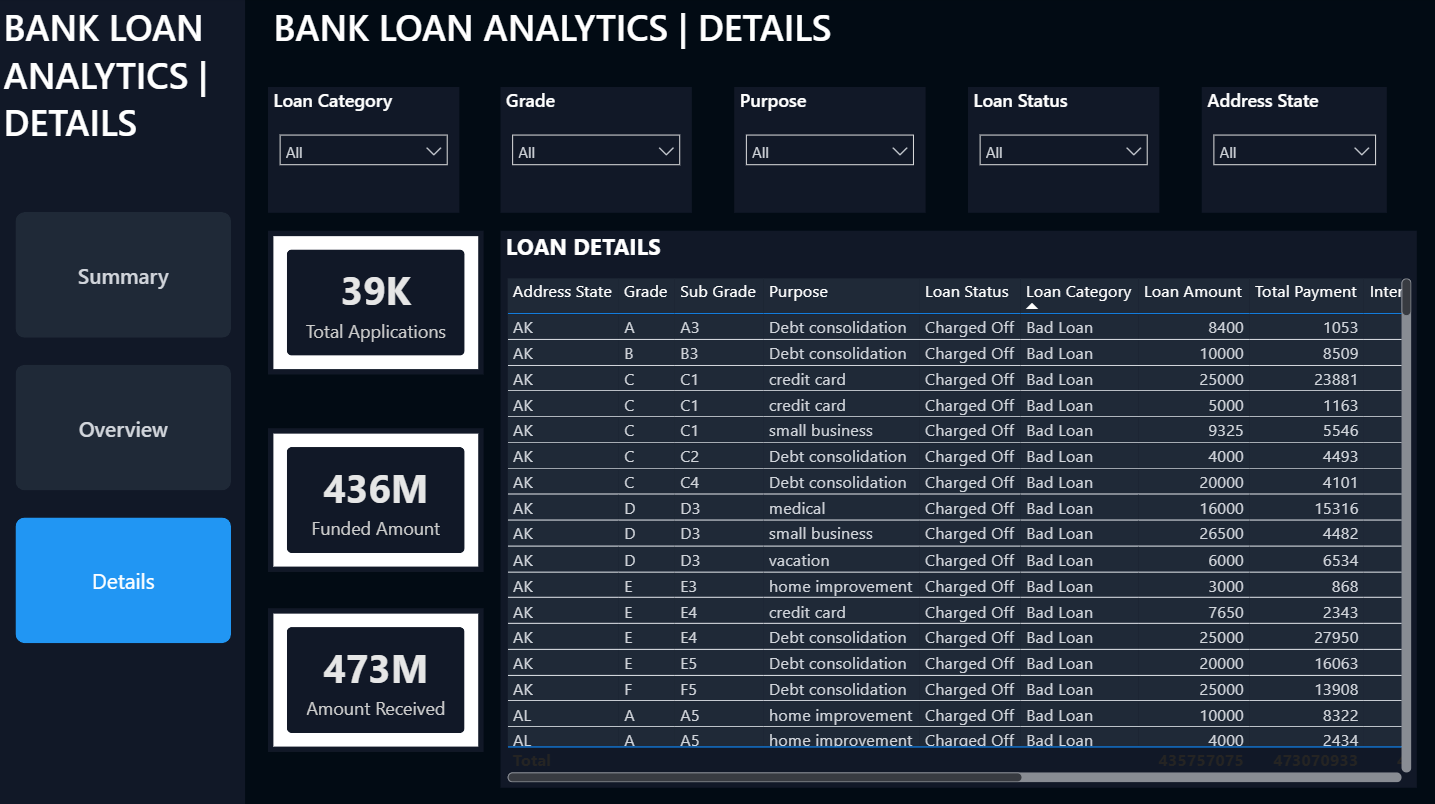

Layout of this report page (visuals, bound fields, positions):
{"tool":"powerbi","page":{"name":"Details","canvas":[1280,720],"ordinal":2},"visuals":[{"type":"shape","box":[0,0,220,720],"z":0},{"type":"textbox","box":[240,0,864,80],"z":1000},{"type":"slicer","title":"Address State","fields":{"Values":["financial_loan.address_state"]},"box":[1072,80,165,112],"z":2000},{"type":"slicer","title":"Grade","fields":{"Values":["financial_loan.grade"]},"box":[448,80,170,112],"z":3000},{"type":"slicer","title":"Purpose","fields":{"Values":["financial_loan.purpose"]},"box":[656,80,170,112],"z":4000},{"type":"slicer","title":"Loan Status","fields":{"Values":["financial_loan.loan_status"]},"box":[864,80,170,112],"z":5000},{"type":"tableEx","title":"LOAN DETAILS","fields":{"Values":["financial_loan.address_state","financial_loan.grade","financial_loan.sub_grade","financial_loan.purpose","financial_loan.loan_status","financial_loan.Loan_Category","Sum(financial_loan.loan_amount)","Sum(financial_loan.total_payment)","Sum(financial_loan.int_rate)","Sum(financial_loan.installment)","Sum(financial_loan.annual_income)","Sum(financial_loan.dti)"]},"box":[448,208,816,496],"z":6000},{"type":"cardVisual","fields":{"Data":["_Measures.Total Applications"]},"box":[240,208,192,128],"z":7000},{"type":"cardVisual","fields":{"Data":["_Measures.Total Funded Amount"]},"box":[240,384,192,128],"z":8000},{"type":"cardVisual","fields":{"Data":["_Measures.Total Amount Received"]},"box":[240,544,192,128],"z":9000},{"type":"pageNavigator","box":[16,192,192,384],"z":10000},{"type":"textbox","box":[0,0,208,144],"z":11000},{"type":"slicer","title":"Loan Category","fields":{"Values":["financial_loan.Loan_Category"]},"box":[240,80,170,112],"z":12000}]}

Visuals, with their boxes in screenshot pixels (x1, y1, x2, y2), scaled from the page's 1280x720 canvas onto the 1435x804 screenshot:
shape: pyautogui.locateOnScreen(0, 0, 247, 803)
textbox: pyautogui.locateOnScreen(269, 0, 1238, 89)
"Address State" slicer: pyautogui.locateOnScreen(1202, 89, 1387, 214)
"Grade" slicer: pyautogui.locateOnScreen(502, 89, 693, 214)
"Purpose" slicer: pyautogui.locateOnScreen(735, 89, 926, 214)
"Loan Status" slicer: pyautogui.locateOnScreen(969, 89, 1159, 214)
"LOAN DETAILS" tableEx: pyautogui.locateOnScreen(502, 232, 1417, 786)
cardVisual - _Measures.Total Applications: pyautogui.locateOnScreen(269, 232, 484, 375)
cardVisual - _Measures.Total Funded Amount: pyautogui.locateOnScreen(269, 429, 484, 572)
cardVisual - _Measures.Total Amount Received: pyautogui.locateOnScreen(269, 607, 484, 750)
pageNavigator: pyautogui.locateOnScreen(18, 214, 233, 643)
textbox: pyautogui.locateOnScreen(0, 0, 233, 161)
"Loan Category" slicer: pyautogui.locateOnScreen(269, 89, 460, 214)
